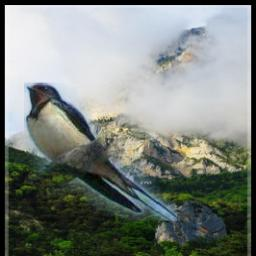Swallow: (25, 84, 178, 222)
